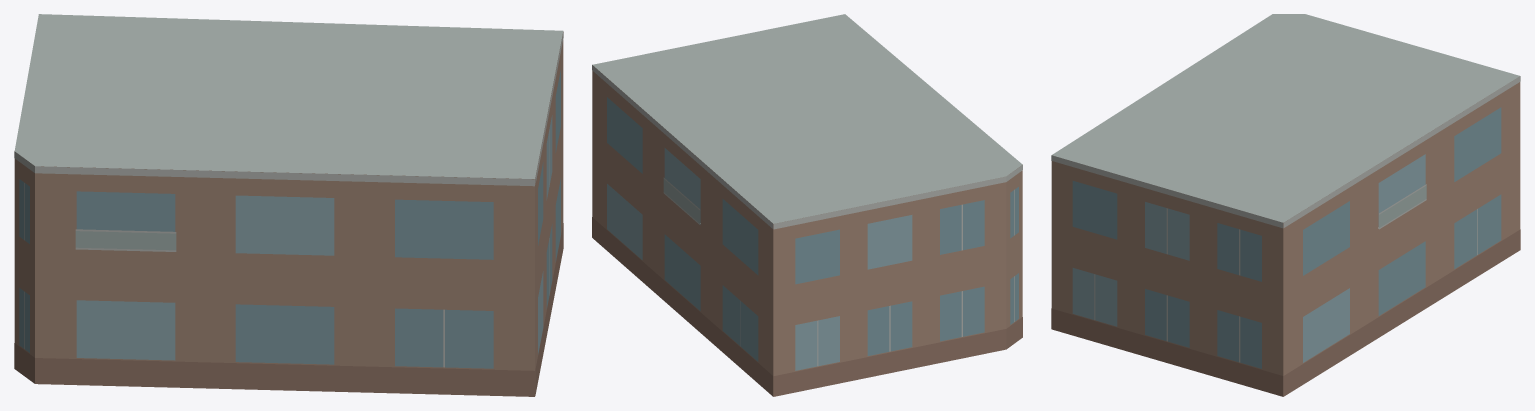
The model's file is survey-upis-32847341.glb.
3 renders of one model, left to right at view 1: azimuth 30°, elevation 25°; view 2: azimuth 150°, elevation 25°; view 3: azimuth 270°, elevation 25°, orthographic. The views are drawn at different scales.
Visible parts, largest first — view 1: survey-upis-32847341.tmp; view 2: survey-upis-32847341.tmp; view 3: survey-upis-32847341.tmp.
Part boxes in pixels (x1=…): survey-upis-32847341.tmp: x1=14, y1=14, x2=563, y2=396; survey-upis-32847341.tmp: x1=592, y1=14, x2=1022, y2=396; survey-upis-32847341.tmp: x1=1051, y1=14, x2=1520, y2=396.
Size of the model in its own units: 19.3 by 7.5 by 18.32.
